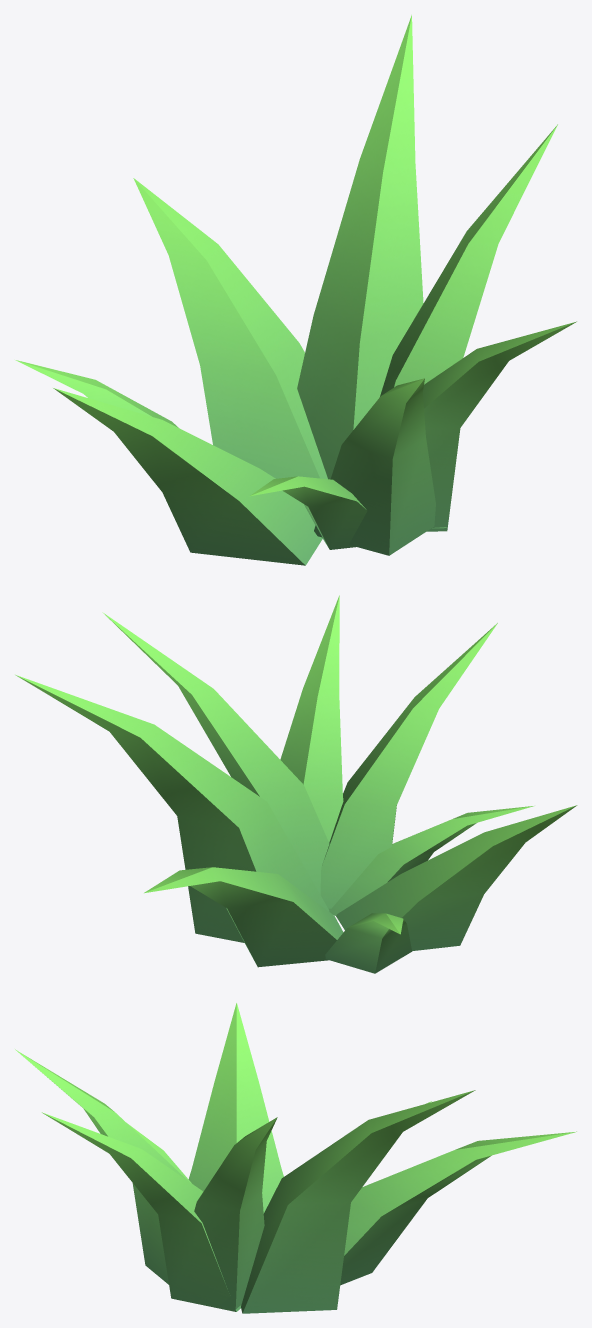
File: grass.fbx
3 views of the same model, one above another, from view 1: azimuth 30°, elevation 25°; view 2: azimuth 150°, elevation 25°; view 3: azimuth 270°, elevation 25° (orthographic). The views are drawn at different scales.
Visible parts, largest first — view 1: polySurface8; view 2: polySurface8; view 3: polySurface8.
Boxes of the visible parts, bbox=[...] form: polySurface8: bbox=[15, 15, 576, 565]; polySurface8: bbox=[15, 595, 577, 973]; polySurface8: bbox=[15, 1003, 576, 1313].
Bounding box in the file's own units: 7.28 × 4.42 × 8.39.
1 material, 1 textured.
